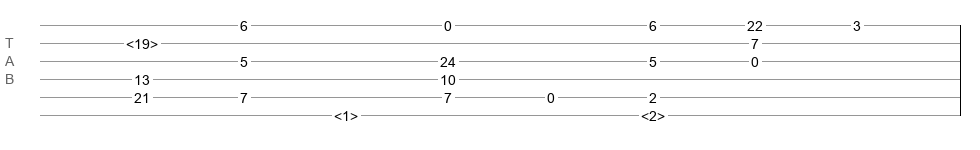0: (444, 18, 452, 28), (547, 90, 555, 100), (751, 54, 759, 64)
10: (440, 72, 456, 82)
13: (134, 72, 150, 82)
2: (649, 90, 657, 100)
21: (134, 90, 150, 100)
22: (747, 18, 763, 28)
24: (440, 54, 456, 64)
3: (853, 18, 861, 28)
5: (240, 54, 248, 64), (649, 54, 657, 64)
6: (240, 18, 248, 28), (649, 18, 657, 28)
7: (240, 90, 248, 100), (444, 90, 452, 100), (751, 36, 759, 46)
harmonic: (126, 36, 158, 46), (334, 108, 358, 118), (641, 108, 665, 118)
